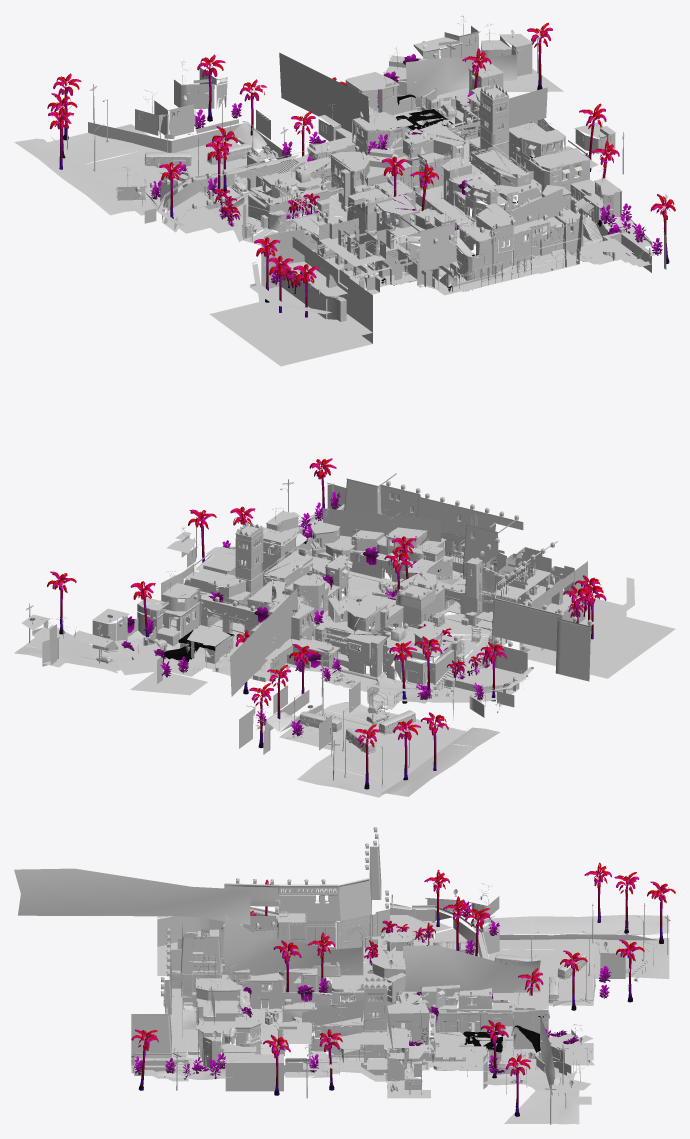
The model's file is mirage.glb.
3 views of the same model, one above another, from view 1: azimuth 30°, elevation 25°; view 2: azimuth 150°, elevation 25°; view 3: azimuth 270°, elevation 25° (orthographic). The views are drawn at different scales.
Visible parts, largest first — view 1: n0_lr0_agg_merge_marble_01_0 (×7), n0_lr0_agg_merge_blend_blacktopsand_01_0 (×6), n0_lr0_agg_merge_urban_trees_branches03_medium_animated_0 (×5), n0_lr0_agg_merge_black_simple_0, n0_lr0_agg_merge_de_mirage_brick_ver2_blend_update_0, n0_lr0_c0_s_cb_nomerge1_dust_002.meshset_0, n0_lr0_c0_s_cb_nomerge3_dust_002.meshset_0, n0_lr0_agg_merge_sitebwall13a_1 (×3), n0_lr0_agg_merge_de_mirage_tilef_diffuse_0 (×2), n0_lr0_agg_merge_marketwall02_0 (×2), n0_lr0_agg_merge_de_mirage_top_ver1_blend_0 (×2), n0_lr0_agg_merge_hpe_plaster_tan_wall_0 (×2) (+11 smaller); view 2: n0_lr0_agg_merge_mirage_plaster_blend_3_1 (×9), n0_lr0_agg_merge_blend_blacktopsand_01_0 (×3), n0_lr0_agg_merge_black_simple_0, n0_lr0_c0_s_cb_nomerge1_dust_002.meshset_0, n0_lr0_c0_s_cb_nomerge12_dust_002.meshset_0, n0_lr0_agg_merge_urban_trees_branches03_medium_animated_0 (×2), n0_lr0_agg_merge_marble_01_0 (×2), n0_lr0_agg_merge_de_mirage_tilef_diffuse_0, n0_lr0_agg_merge_de_mirage_brick_ver2_blend_update_0, n0_lr0_agg_merge_de_mirage_ground_tileh_blend_diffuse__0 (×2), n0_lr0_agg_merge_towertop_e_0, n0_lr0_agg_merge_bus01_a_2_0; view 3: n0_lr0_c0_s_cb_nomerge4_dust_002.meshset_0, n0_lr0_c0_s_cb_nomerge0_dust_002.meshset_0, n0_lr0_agg_merge_mirage_plaster_blend_3_1 (×6), n0_lr0_c0_s_cb_nomerge5_dust_002.meshset_0, n0_lr0_agg_merge_blend_blacktopsand_01_0 (×4), n0_lr0_agg_merge_de_mirage_tilef_diffuse_0 (×3), n0_lr0_agg_merge_marble_01_0 (×5), n0_lr0_agg_merge_urban_trees_branches03_medium_animated_0 (×4), n0_lr0_c4_s_cb_bl_mesh_blocklight4_noshadow.meshset_0, n0_lr0_agg_merge_de_mirage_brick_ver2_blend_update_0, n0_lr0_agg_merge_towertop_e_0, n0_lr0_agg_merge_de_mirage_ground_tileh_blend_diffuse__0 (+10 smaller).
Boxes of the visible parts, bbox=[...] form: n0_lr0_agg_merge_marble_01_0 (×7): bbox=[192, 40, 621, 321]; n0_lr0_agg_merge_blend_blacktopsand_01_0 (×6): bbox=[48, 70, 563, 179]; n0_lr0_agg_merge_urban_trees_branches03_medium_animated_0 (×5): bbox=[47, 22, 619, 288]; n0_lr0_agg_merge_black_simple_0: bbox=[209, 302, 372, 366]; n0_lr0_agg_merge_de_mirage_brick_ver2_blend_update_0: bbox=[258, 229, 373, 342]; n0_lr0_c0_s_cb_nomerge1_dust_002.meshset_0: bbox=[279, 52, 369, 139]; n0_lr0_c0_s_cb_nomerge3_dust_002.meshset_0: bbox=[405, 54, 516, 98]; n0_lr0_agg_merge_sitebwall13a_1 (×3): bbox=[249, 237, 372, 343]; n0_lr0_agg_merge_de_mirage_tilef_diffuse_0 (×2): bbox=[14, 138, 139, 215]; n0_lr0_agg_merge_marketwall02_0 (×2): bbox=[88, 122, 252, 152]; n0_lr0_agg_merge_de_mirage_top_ver1_blend_0 (×2): bbox=[117, 109, 551, 271]; n0_lr0_agg_merge_hpe_plaster_tan_wall_0 (×2): bbox=[319, 218, 386, 266]; n0_lr0_agg_merge_mirage_plaster_blend_3_1 (×9): bbox=[344, 478, 590, 666]; n0_lr0_agg_merge_blend_blacktopsand_01_0 (×3): bbox=[25, 625, 386, 797]; n0_lr0_agg_merge_black_simple_0: bbox=[526, 617, 675, 678]; n0_lr0_c0_s_cb_nomerge1_dust_002.meshset_0: bbox=[230, 588, 298, 696]; n0_lr0_c0_s_cb_nomerge12_dust_002.meshset_0: bbox=[322, 508, 441, 544]; n0_lr0_agg_merge_urban_trees_branches03_medium_animated_0 (×2): bbox=[249, 575, 606, 747]; n0_lr0_agg_merge_marble_01_0 (×2): bbox=[32, 582, 271, 661]; n0_lr0_agg_merge_de_mirage_tilef_diffuse_0: bbox=[381, 744, 476, 796]; n0_lr0_agg_merge_de_mirage_brick_ver2_blend_update_0: bbox=[519, 597, 626, 655]; n0_lr0_agg_merge_de_mirage_ground_tileh_blend_diffuse__0 (×2): bbox=[14, 645, 189, 695]; n0_lr0_agg_merge_towertop_e_0: bbox=[235, 522, 263, 569]; n0_lr0_agg_merge_bus01_a_2_0: bbox=[300, 711, 386, 752]; n0_lr0_c0_s_cb_nomerge4_dust_002.meshset_0: bbox=[14, 868, 250, 924]; n0_lr0_c0_s_cb_nomerge0_dust_002.meshset_0: bbox=[403, 945, 540, 992]; n0_lr0_agg_merge_mirage_plaster_blend_3_1 (×6): bbox=[131, 882, 361, 1058]; n0_lr0_c0_s_cb_nomerge5_dust_002.meshset_0: bbox=[223, 914, 363, 975]; n0_lr0_agg_merge_blend_blacktopsand_01_0 (×4): bbox=[504, 938, 669, 1123]; n0_lr0_agg_merge_de_mirage_tilef_diffuse_0 (×3): bbox=[157, 915, 669, 1078]; n0_lr0_agg_merge_marble_01_0 (×5): bbox=[196, 928, 590, 1090]; n0_lr0_agg_merge_urban_trees_branches03_medium_animated_0 (×4): bbox=[263, 867, 669, 1076]; n0_lr0_c4_s_cb_bl_mesh_blocklight4_noshadow.meshset_0: bbox=[225, 1063, 283, 1091]; n0_lr0_agg_merge_de_mirage_brick_ver2_blend_update_0: bbox=[157, 912, 277, 965]; n0_lr0_agg_merge_towertop_e_0: bbox=[363, 977, 387, 1019]; n0_lr0_agg_merge_de_mirage_ground_tileh_blend_diffuse__0: bbox=[557, 1072, 579, 1124].
Bounding box in the file's own units: 150 × 42.87 × 185.
